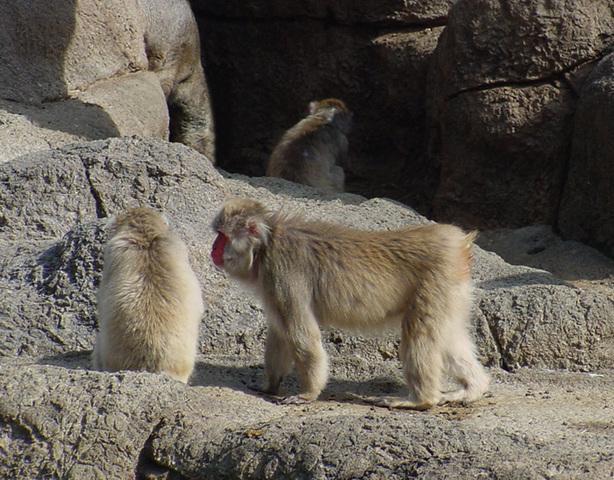monkey: (209, 200, 491, 410)
